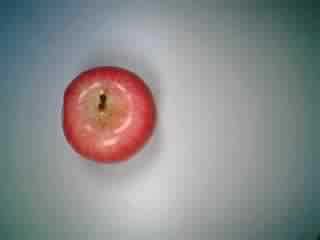apple: (53, 63, 158, 165)
